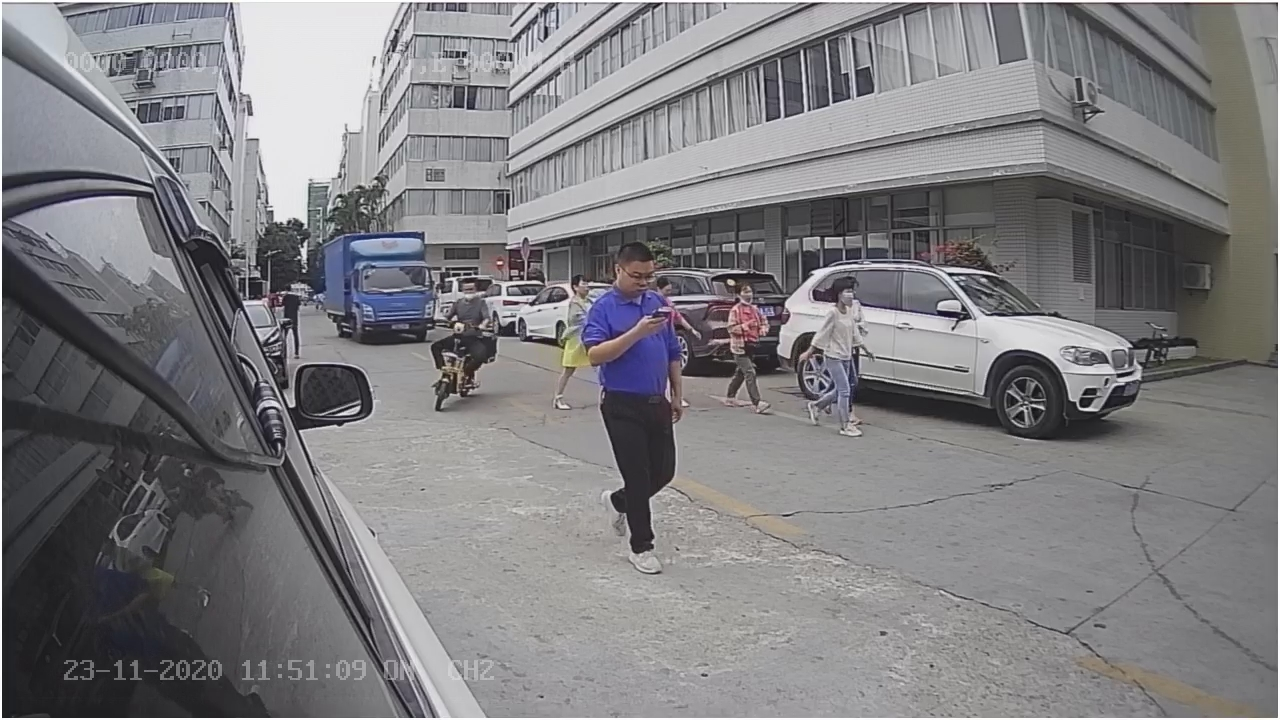person: (582, 240, 699, 577), (723, 279, 775, 413), (438, 268, 498, 335)
